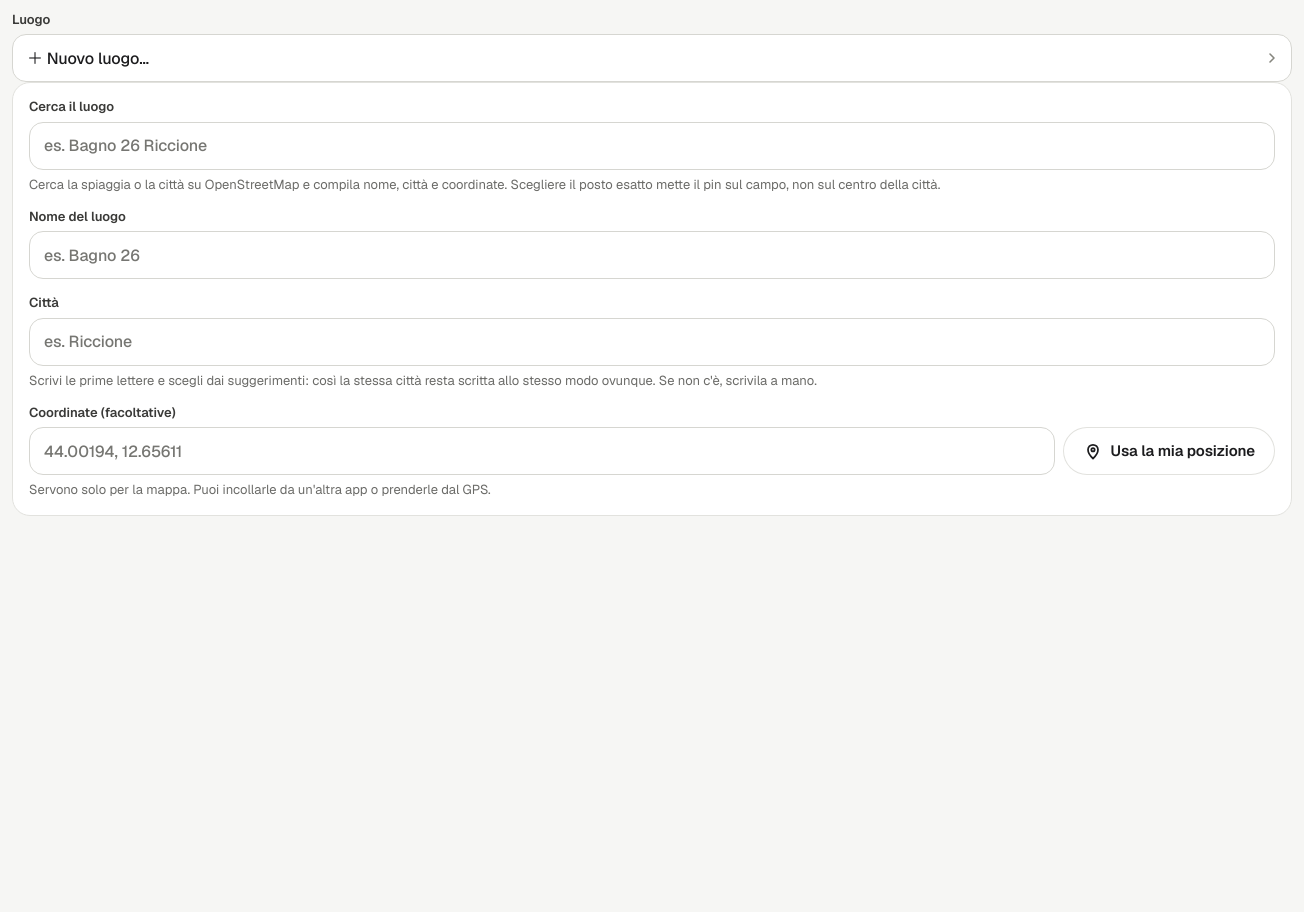
Scenario: VenuePicker — i risultati › elenca i luoghi trovati con la loro riga di contesto
The image size is (1304, 912).
Type "b" into the search field labelled "Cerca il luogo".
click(652, 146); type("b")  # box [29,122,1275,170]
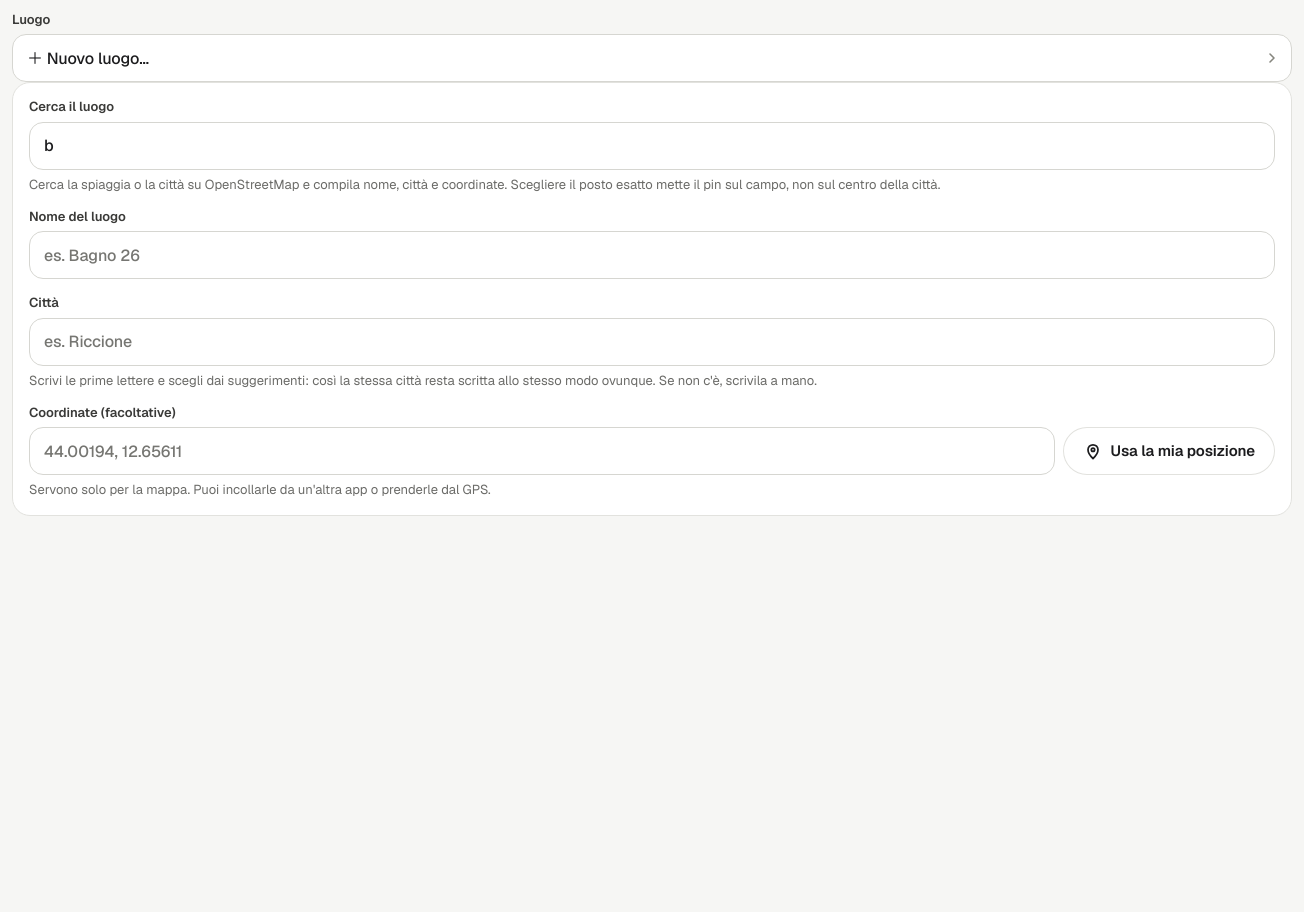
Replace the text in the search field labelled "Cerca il luogo" with "ba" at (652, 146), box [29,122,1275,170]
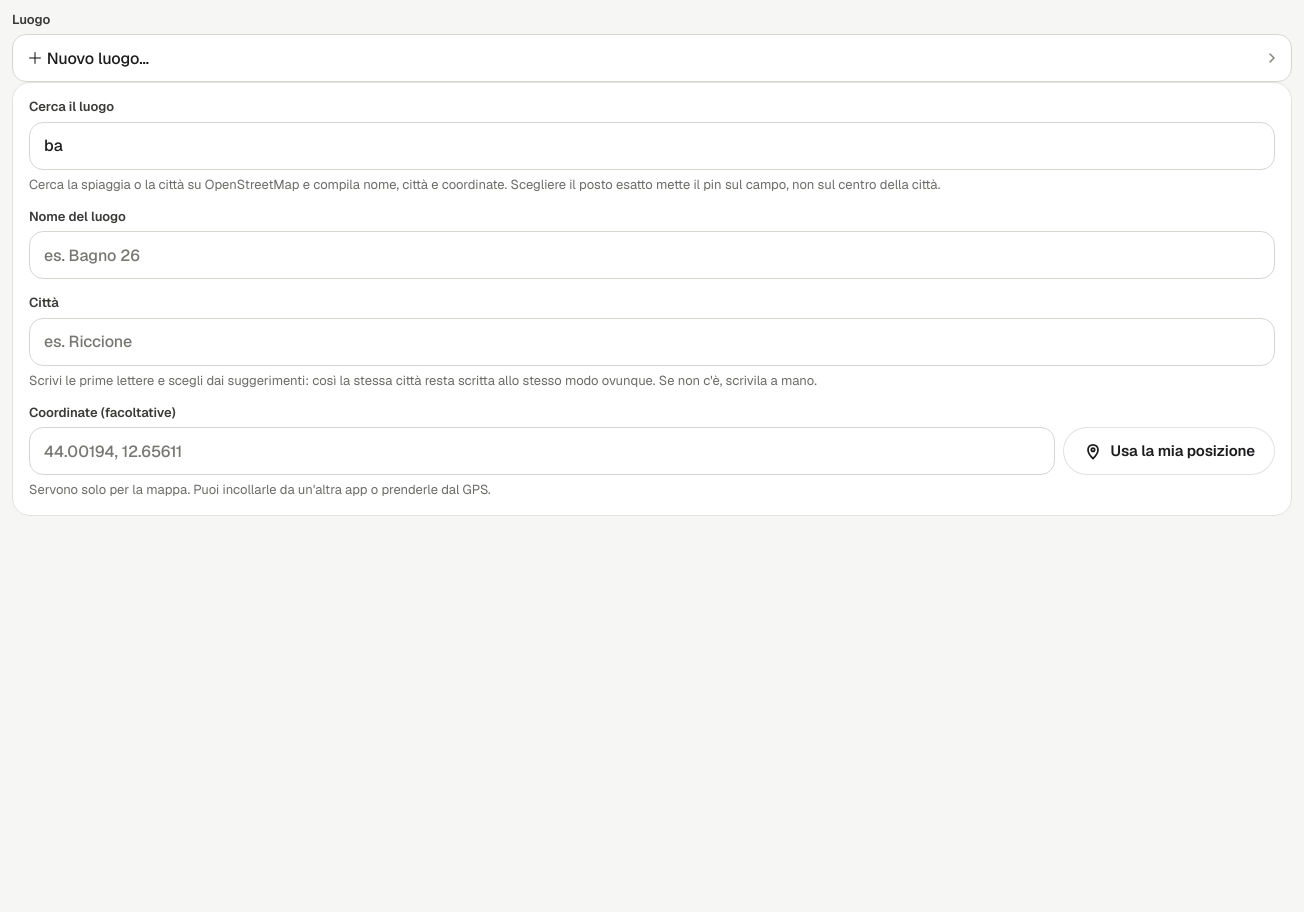
Replace the text in the search field labelled "Cerca il luogo" with "bag" at (652, 146), box [29,122,1275,170]
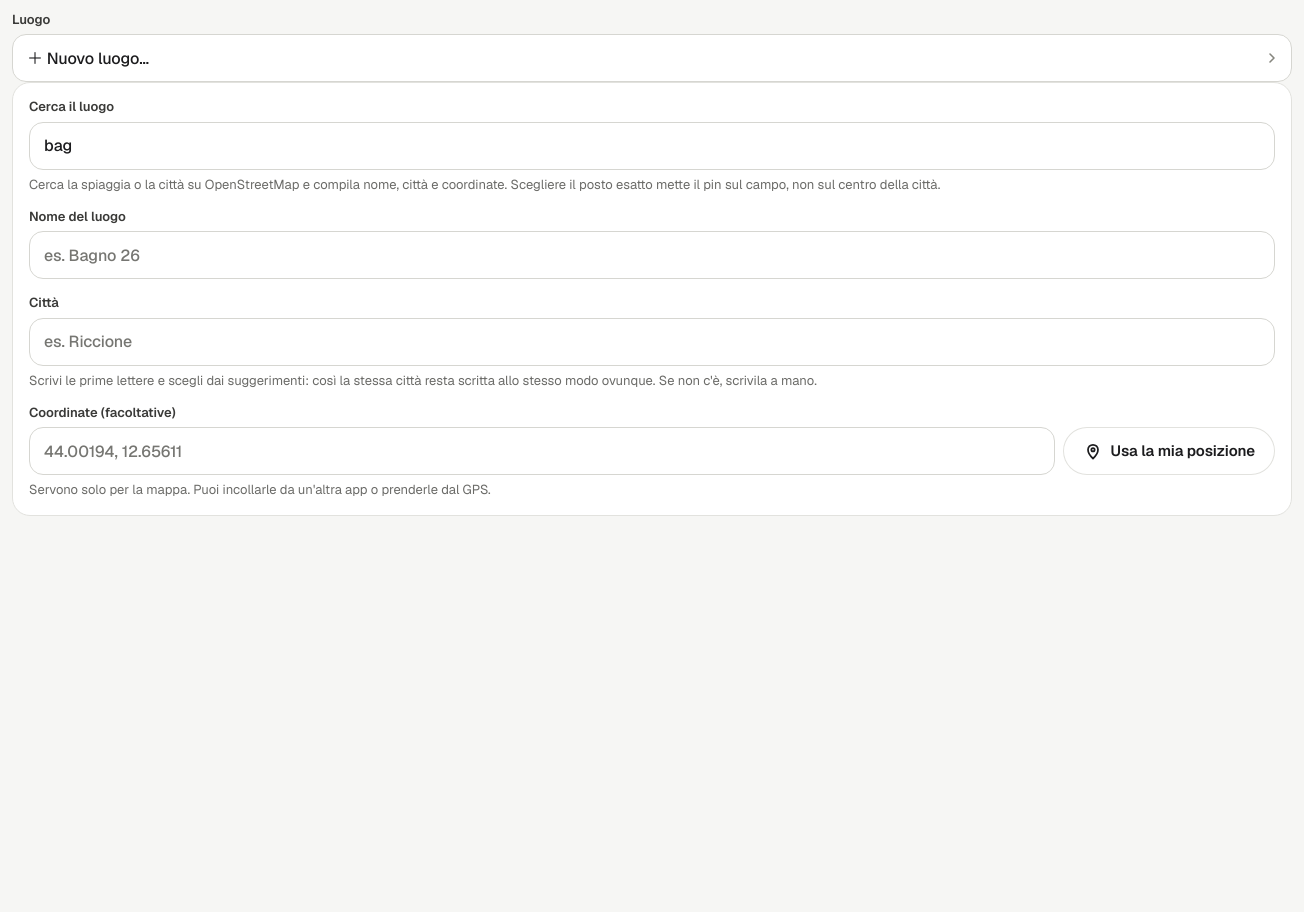
Replace the text in the search field labelled "Cerca il luogo" with "bagn" at (652, 146), box [29,122,1275,170]
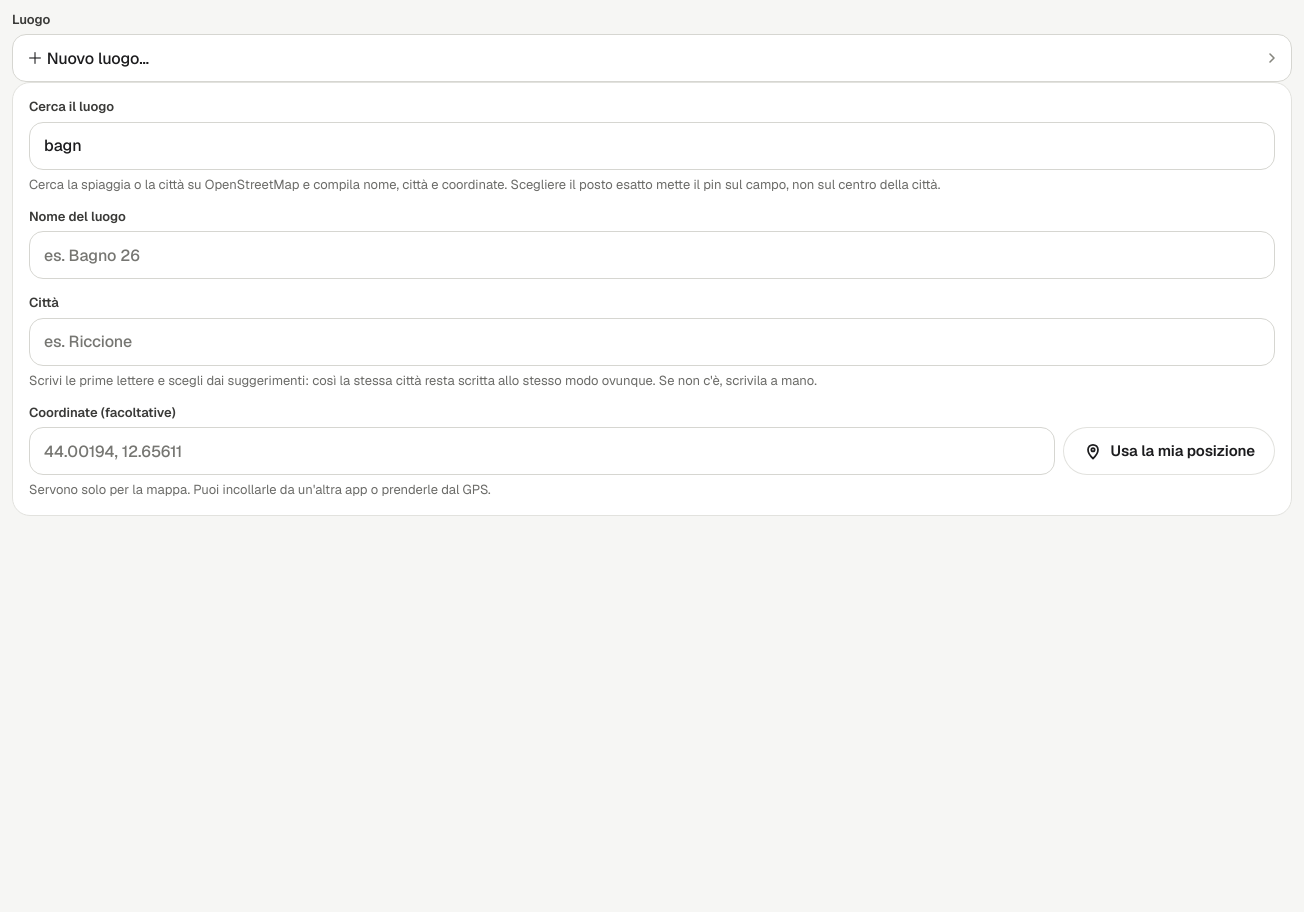
Replace the text in the search field labelled "Cerca il luogo" with "bagno" at (652, 146), box [29,122,1275,170]
Wait 400 ms
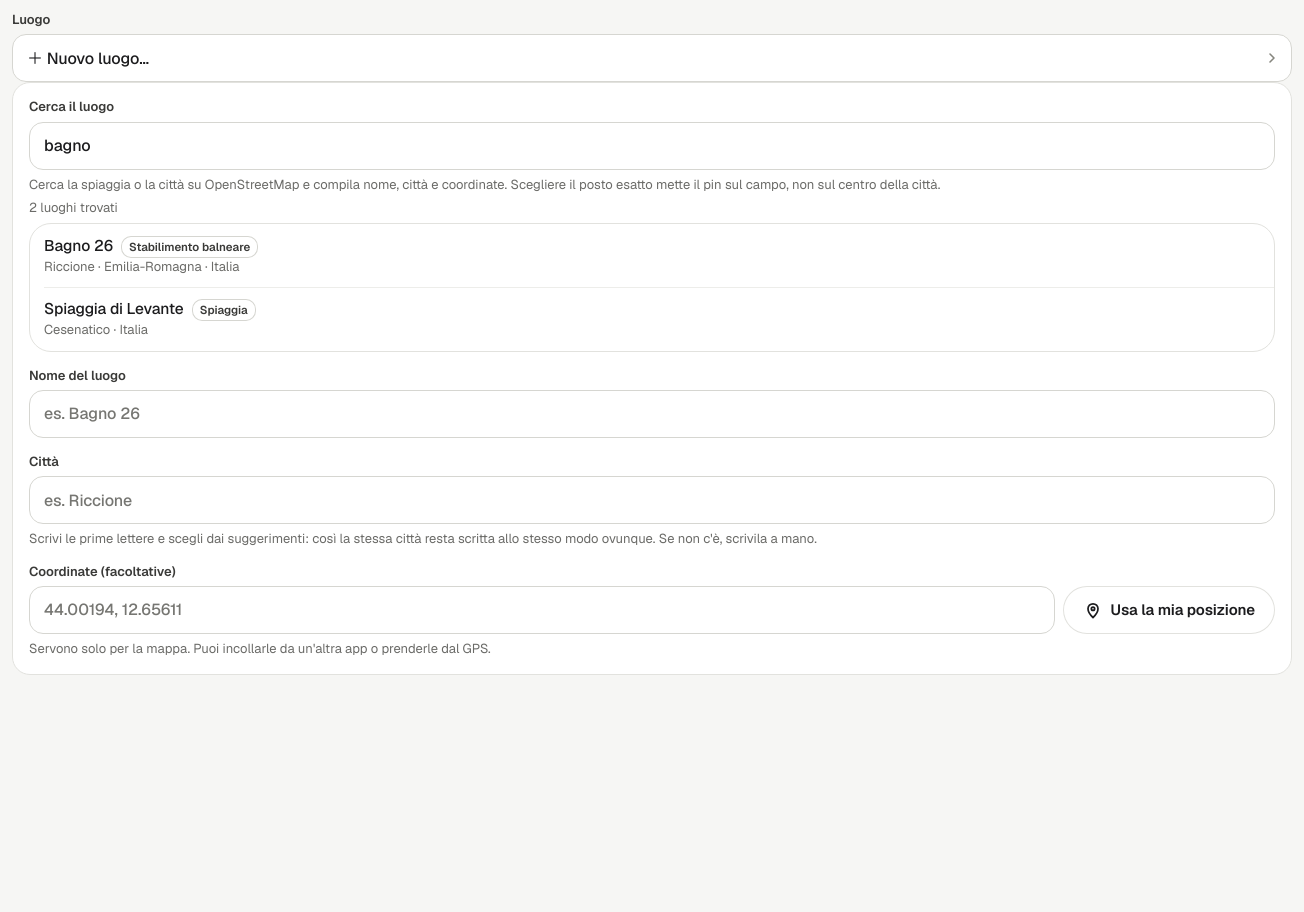
expect the button "Bagno 26" is shown: met, box [30,224,1274,287]
expect the text "Riccione · Emilia-Romagna · Italia" is shown: met, box [44,258,239,275]
expect the button "Spiaggia di Levante Spiaggia Cesenatico · Italia" is shown: met, box [30,287,1274,351]
